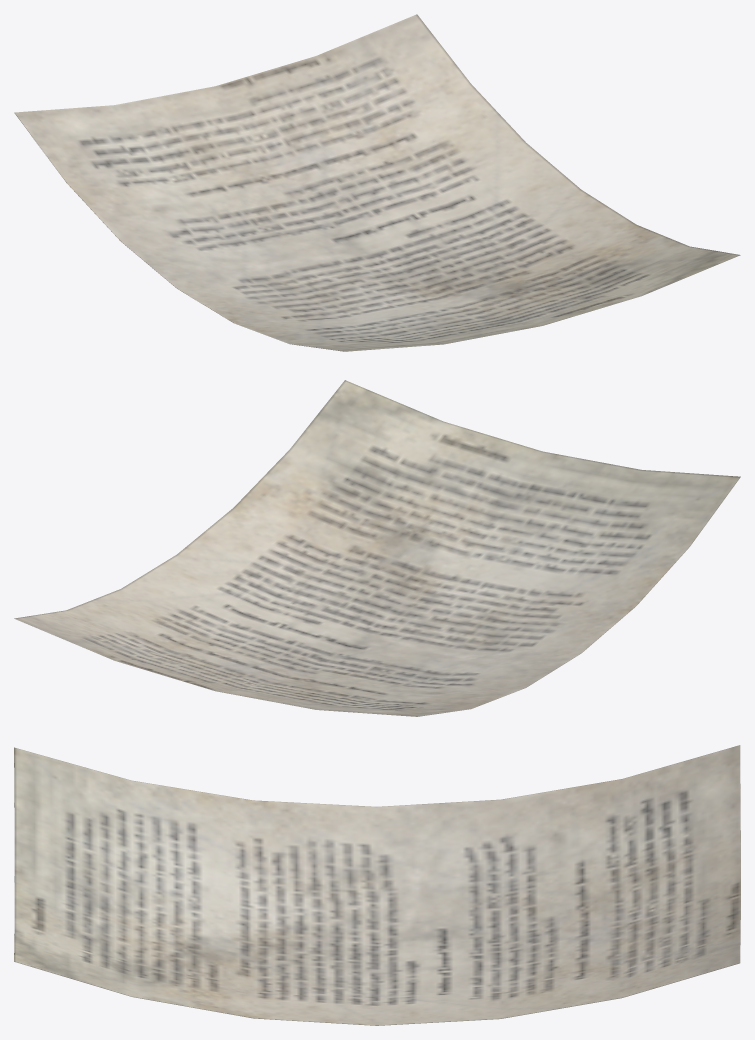
Rendered from Paper_A.obj.
The picture shows the model from 3 angles, top to bottom: view 1: azimuth 30°, elevation 25°; view 2: azimuth 150°, elevation 25°; view 3: azimuth 270°, elevation 25°; orthographic projection. The views are drawn at different scales.
Visible parts, largest first — view 1: Paper_A; view 2: Paper_A; view 3: Paper_A.
Boxes of the visible parts, x1=… form: Paper_A: x1=14, y1=14, x2=740, y2=351; Paper_A: x1=14, y1=380, x2=740, y2=716; Paper_A: x1=14, y1=745, x2=740, y2=1025.
Bounding box in the file's own units: 12.4 × 2.33 × 17.37.
